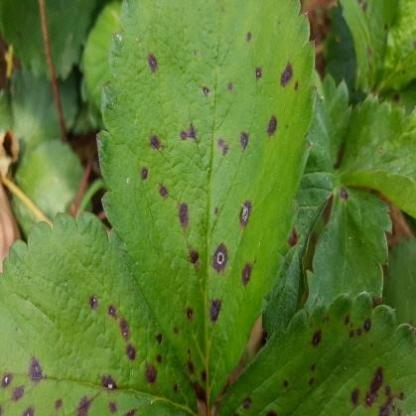Strawberry_Leaf_Spot: (97, 0, 317, 409), (0, 210, 199, 415), (214, 292, 414, 415), (257, 100, 344, 350), (304, 188, 393, 312), (332, 94, 415, 218), (322, 0, 376, 113), (358, 0, 414, 97), (377, 78, 415, 118)
